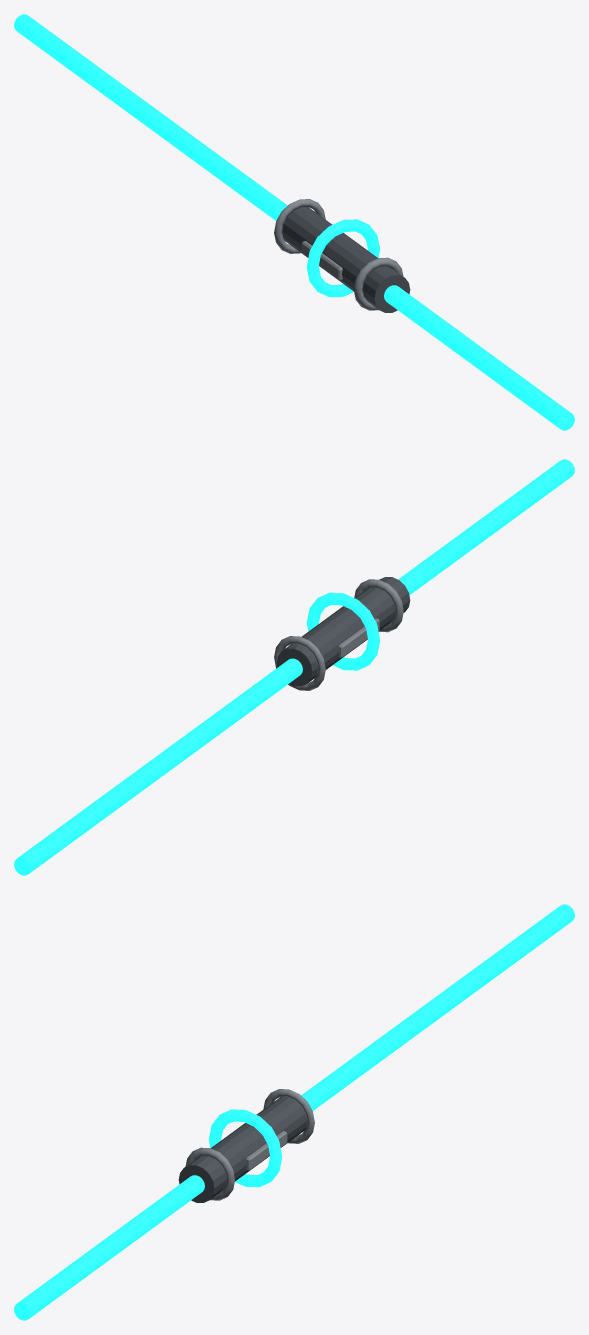
File: WPN_Lightsaber_Complete_FP_v01.glb
3 renders of one model, top to bottom at view 1: azimuth 30°, elevation 25°; view 2: azimuth 150°, elevation 25°; view 3: azimuth 330°, elevation 25°, orthographic.
Visible parts, largest first — view 1: MESH_Blade, MESH_Handle; view 2: MESH_Blade, MESH_Handle; view 3: MESH_Blade, MESH_Handle.
Boxes of the visible parts, left/top/right/bottom form: MESH_Blade: left=14, top=14, right=574, bottom=430; MESH_Handle: left=274, top=199, right=410, bottom=312; MESH_Blade: left=14, top=459, right=574, bottom=875; MESH_Handle: left=274, top=577, right=410, bottom=690; MESH_Blade: left=14, top=904, right=574, bottom=1320; MESH_Handle: left=178, top=1089, right=314, bottom=1202.
Bounding box in the file's own units: 0.156 × 0.156 × 2.
